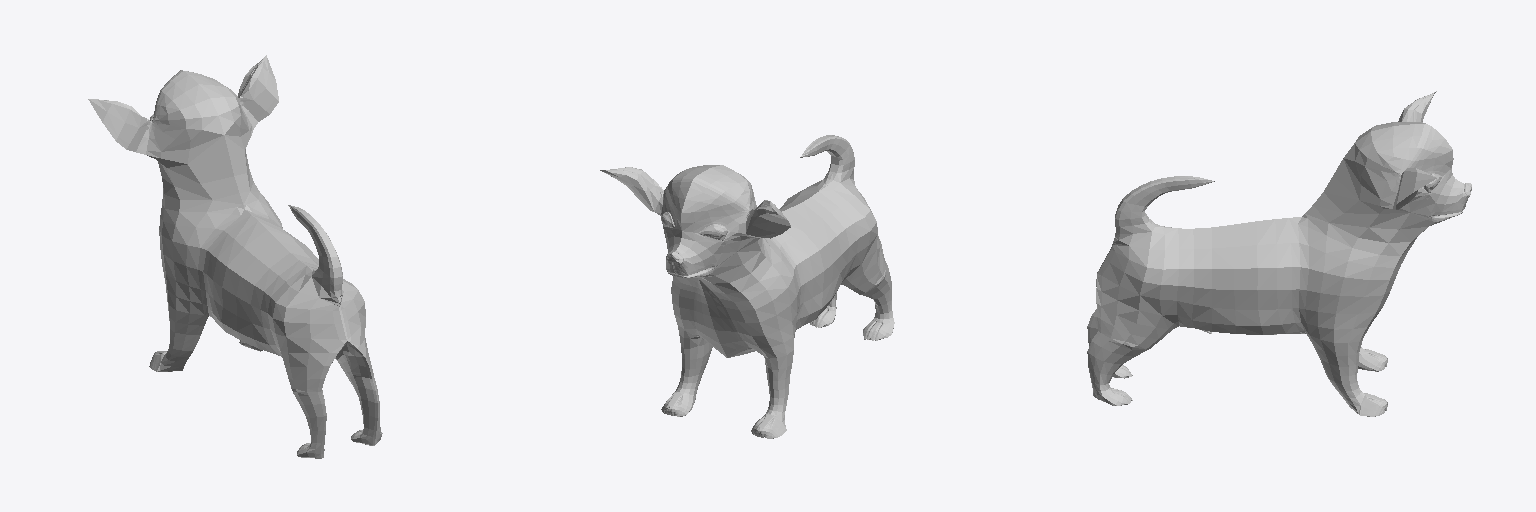
The model's file is wwer.obj.
3 views of the same model, side by side, from view 1: azimuth 30°, elevation 25°; view 2: azimuth 150°, elevation 25°; view 3: azimuth 270°, elevation 25° (orthographic).
Visible parts, largest first — view 1: Plane010; view 2: Plane010; view 3: Plane010.
Boxes of the visible parts, box(x1,y1,x2,y2) form: Plane010: box(88, 55, 382, 458); Plane010: box(600, 135, 894, 438); Plane010: box(1087, 91, 1471, 416).
Size of the model in its own units: 5.26 by 7.45 by 9.82.